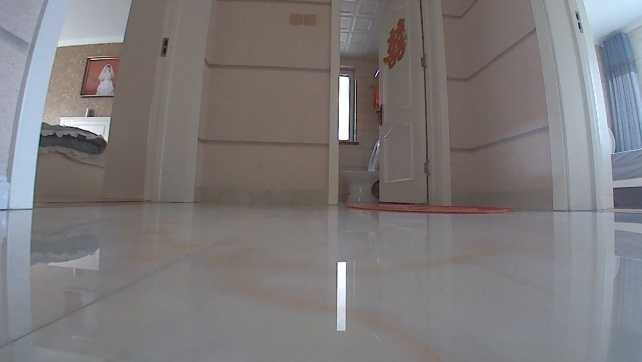bed: (31, 114, 110, 203)
blanket: (346, 201, 514, 215)
door_anno: (376, 0, 452, 205)
toilet: (341, 139, 380, 203)
